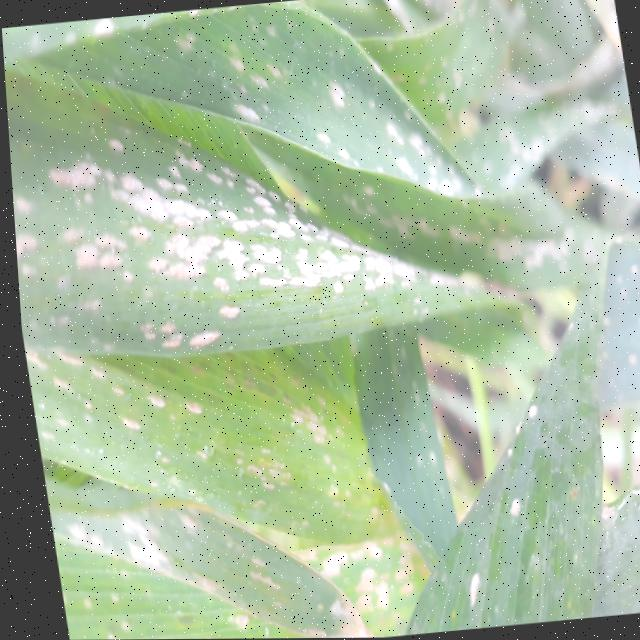powder_mildew: (2, 43, 567, 388), (21, 337, 434, 640), (395, 211, 640, 630), (0, 0, 621, 86), (530, 29, 637, 172)
